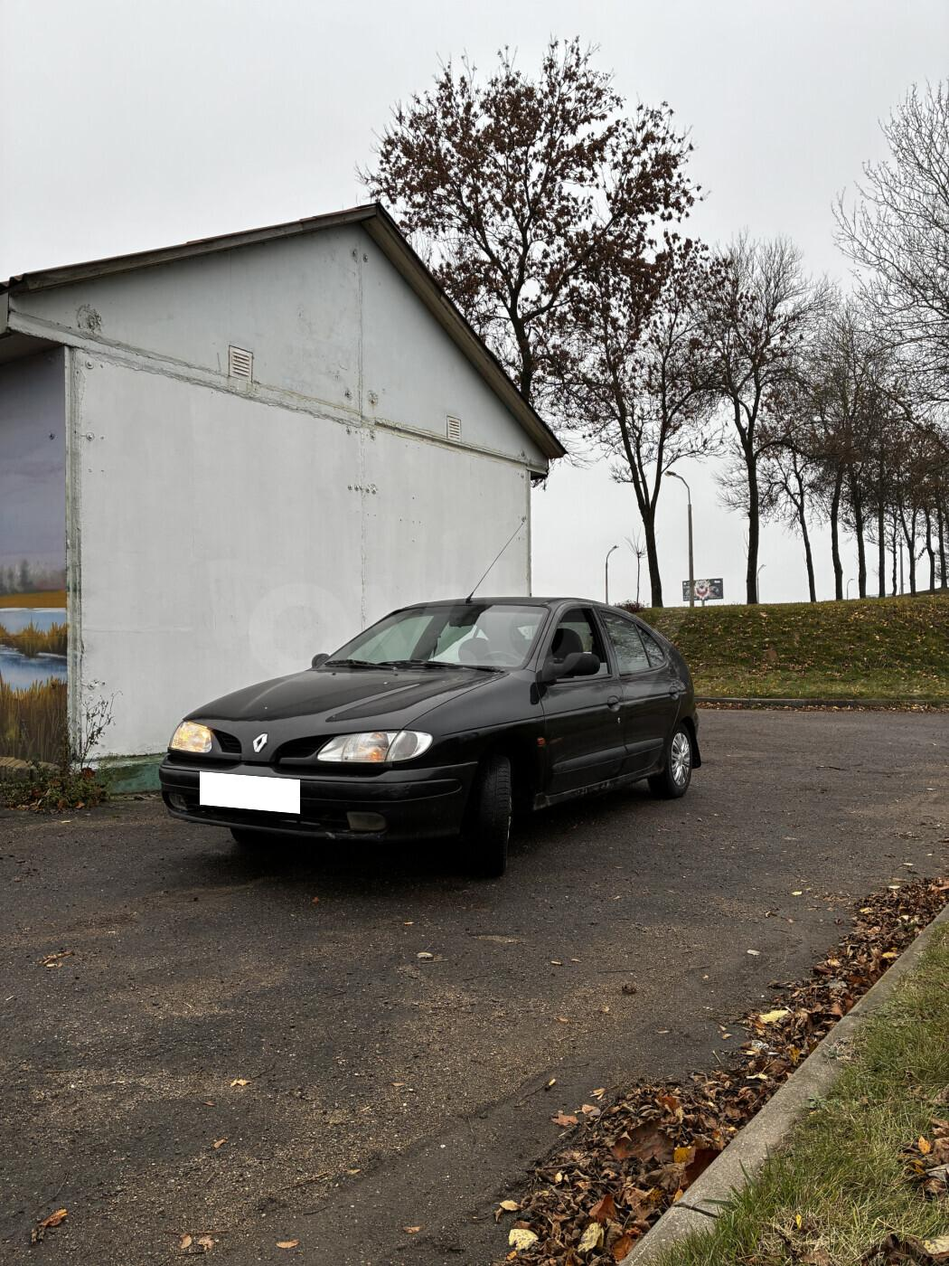Megane_1995-1999: (157, 586, 723, 892)
